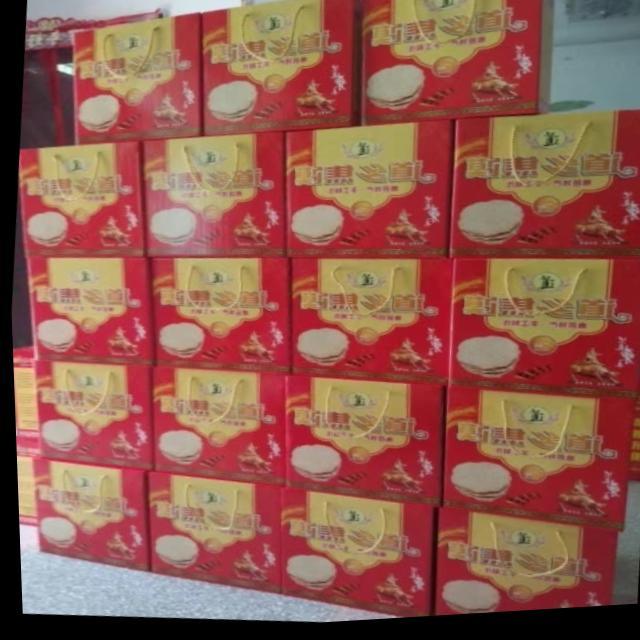box: (447, 117, 640, 267), (436, 391, 633, 537), (445, 263, 640, 405), (358, 0, 554, 130), (284, 127, 453, 263), (280, 377, 443, 511), (202, 0, 360, 138), (287, 260, 451, 390), (275, 490, 429, 622), (427, 513, 613, 621), (141, 135, 283, 258), (72, 14, 201, 145), (148, 259, 288, 376), (143, 473, 276, 596), (149, 368, 282, 488), (16, 143, 143, 256), (22, 256, 151, 367), (28, 456, 146, 571), (31, 361, 148, 472)
